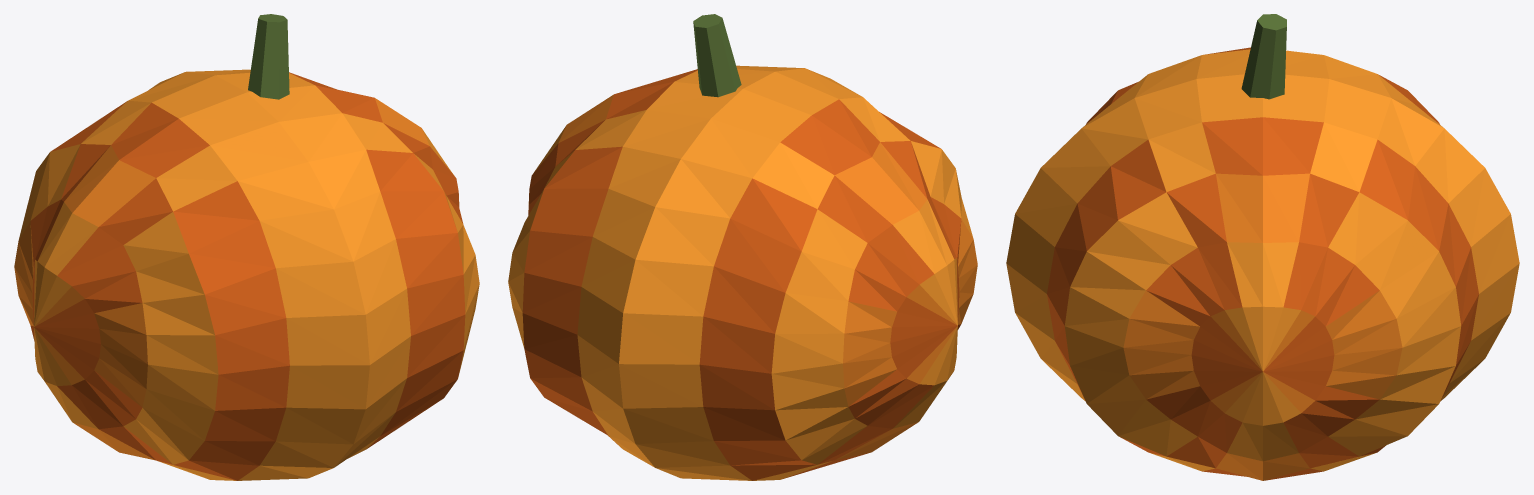
Rendered from dyne.glb.
3 renders of one model, left to right at view 1: azimuth 30°, elevation 25°; view 2: azimuth 150°, elevation 25°; view 3: azimuth 270°, elevation 25°, orthographic. The views are drawn at different scales.
Visible parts, largest first — view 1: half_b_pumpkin_rib, half_b_pumpkin_groove, half_a_pumpkin_rib, half_a_pumpkin_groove, half_b_pumpkin_skin, half_a_stem, half_a_pumpkin_skin; view 2: half_b_pumpkin_rib, half_b_pumpkin_groove, half_a_pumpkin_rib, half_a_pumpkin_groove, half_b_pumpkin_skin, half_a_stem, half_a_pumpkin_skin; view 3: half_a_pumpkin_rib, half_a_pumpkin_groove, half_a_pumpkin_skin, half_b_pumpkin_rib, half_a_stem, half_b_pumpkin_groove.
Part boxes in pixels (x1,y1,x2,y2): half_b_pumpkin_rib: (18,72,369,480); half_b_pumpkin_groove: (30,101,289,480); half_a_pumpkin_rib: (186,69,479,467); half_a_pumpkin_groove: (289,72,465,448); half_b_pumpkin_skin: (14,145,155,460); half_a_stem: (248,14,289,99); half_a_pumpkin_skin: (375,98,459,204); half_b_pumpkin_rib: (619,68,973,480); half_b_pumpkin_groove: (699,99,961,480); half_a_pumpkin_rib: (508,65,804,467); half_a_pumpkin_groove: (522,69,697,444); half_b_pumpkin_skin: (835,142,977,460); half_a_stem: (693,14,741,97); half_a_pumpkin_skin: (528,94,613,211); half_a_pumpkin_rib: (1006,74,1519,471); half_a_pumpkin_groove: (1047,117,1478,480); half_a_pumpkin_skin: (1123,173,1402,480); half_b_pumpkin_rib: (1082,49,1443,127); half_a_stem: (1241,14,1286,99); half_b_pumpkin_groove: (1086,47,1439,124).
Bounding box in the file's own units: 0.52 × 0.5028 × 0.52.
